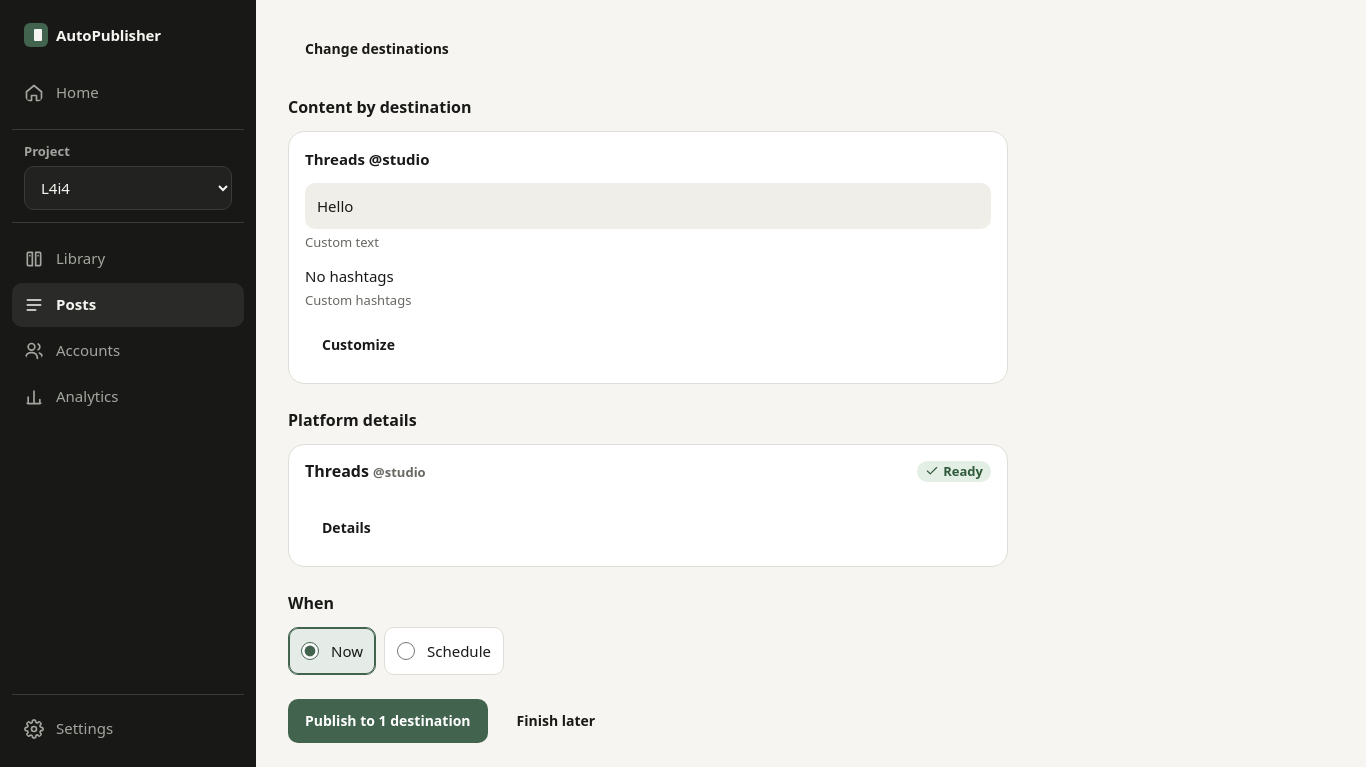
Test: Publish now runs the shared orchestration
(page scrolled)
Expected: the element "Threads @studio Ready Details" is shown, [288,444,1008,567]
Click the button "Publish to 1 destination": (388, 721) [288,699,488,743]
(page scrolled)
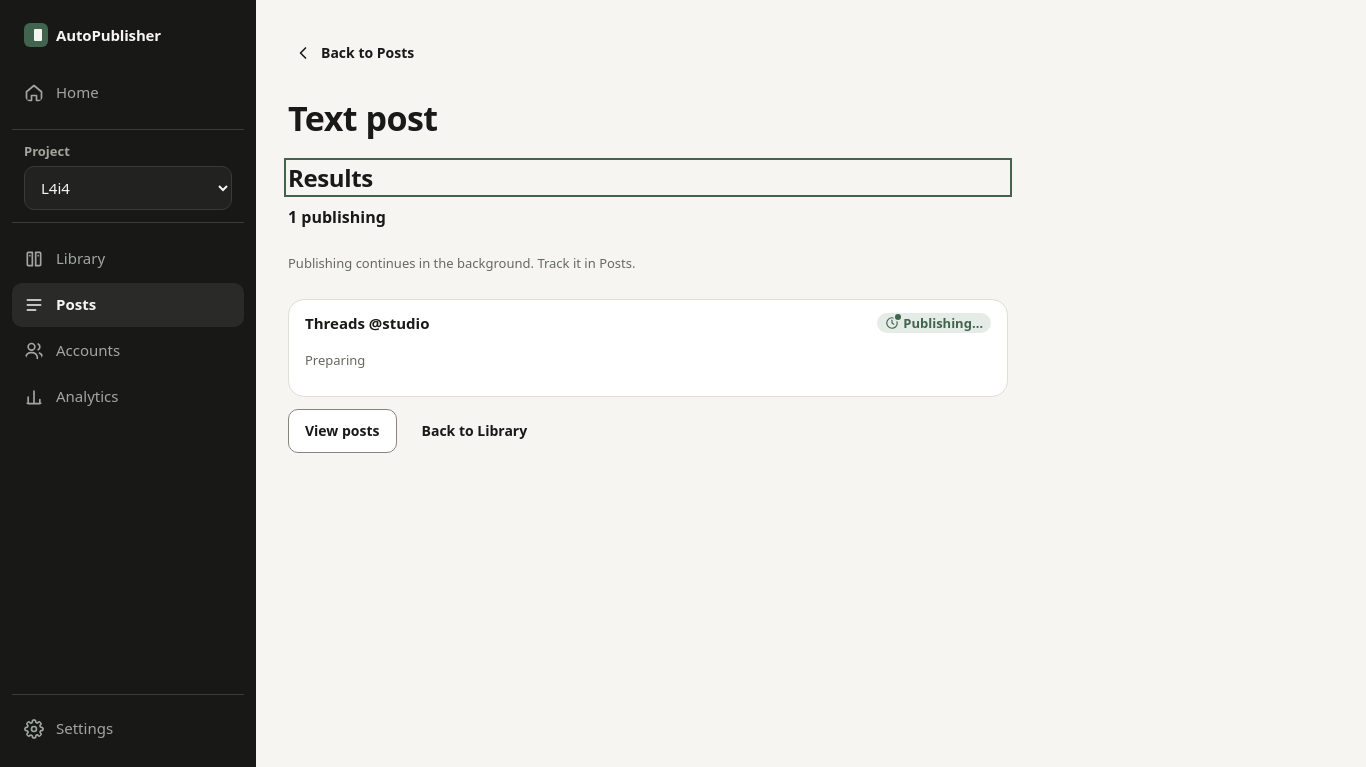
Expected: the text "1 publishing" is shown, [288,206,386,228]
